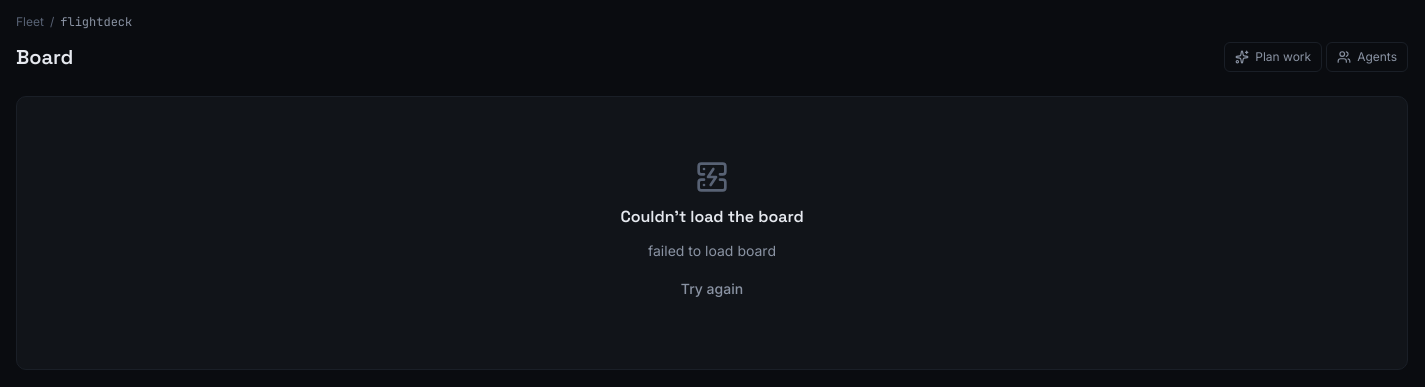
Test case: Board › shows an error state with a retry action when the board fails to load
Check: the text "failed to load board" is shown, box [648,241,776,261]
Click the button "Try again".
click(712, 289)  # box [669,273,755,305]
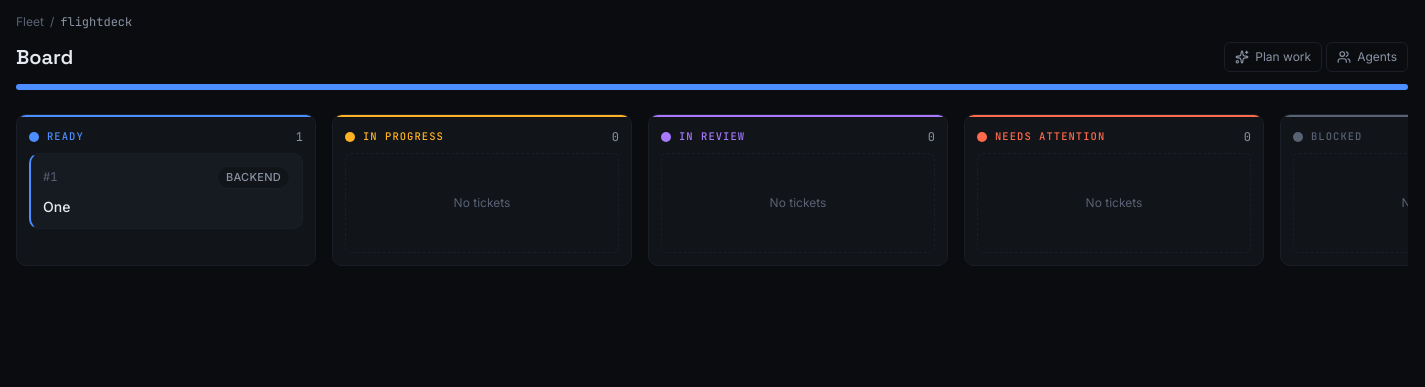
Check: the text "One" is shown, box [43,198,70,214]
